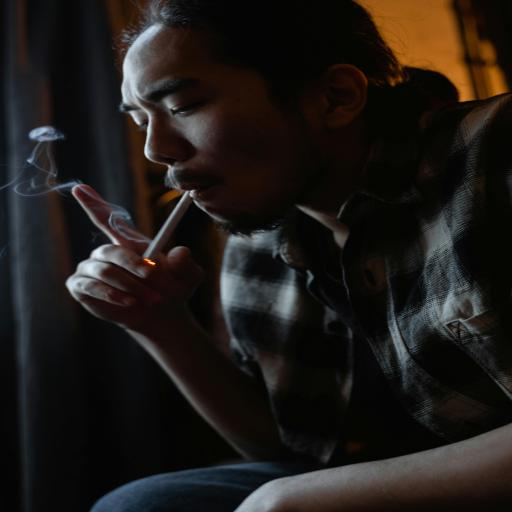terdeteksi merokok: (92, 77, 280, 283)
